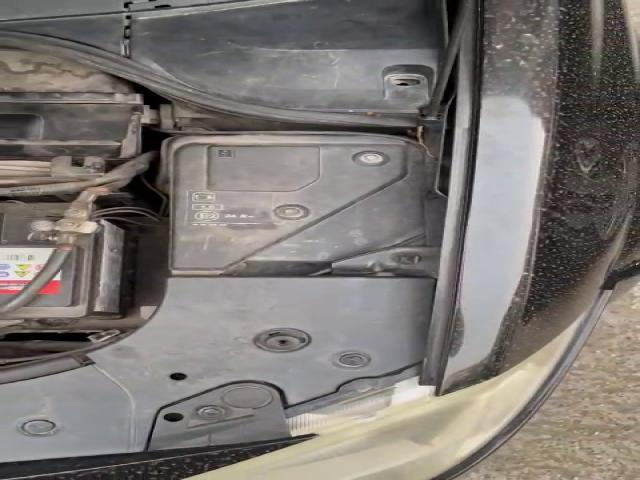accumulator: (0, 201, 140, 320)
fuse_box: (163, 131, 432, 275)
